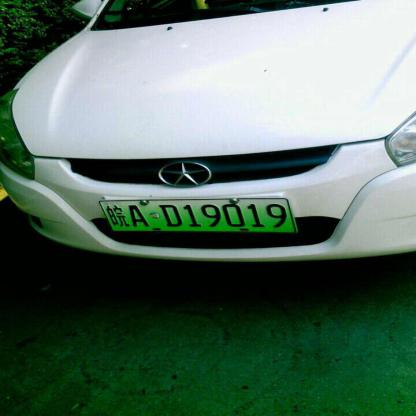lp: (100, 197, 295, 231)
